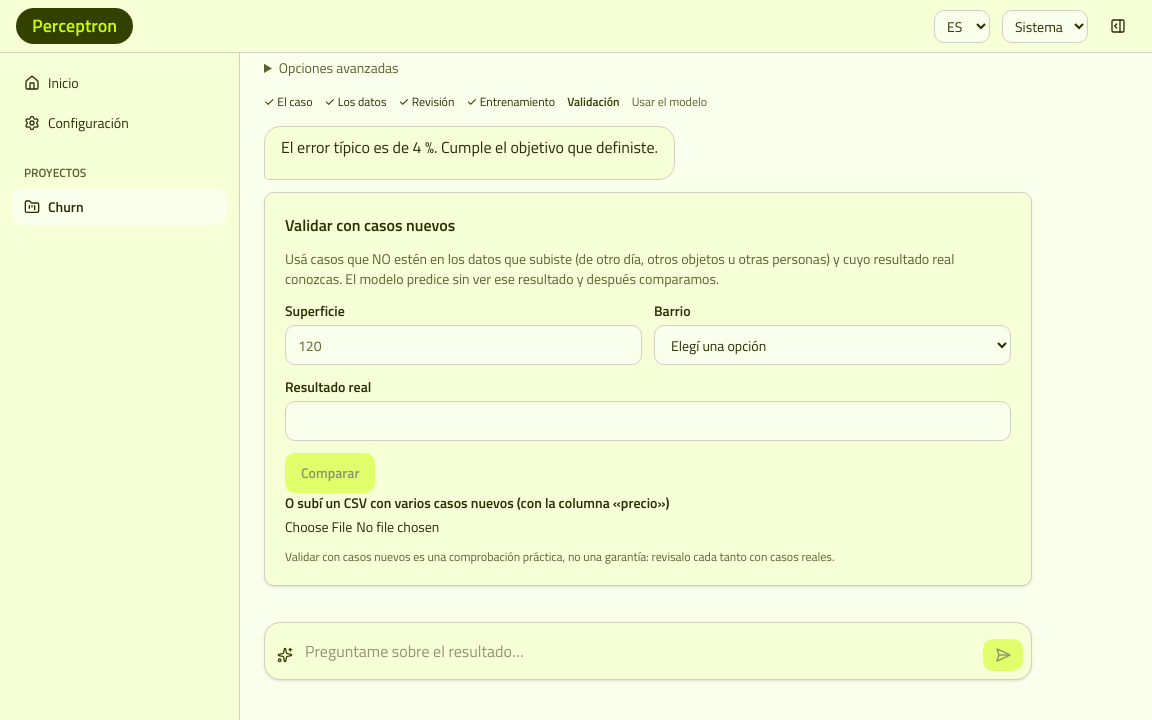
Test: validación: el resultado va en el hilo y se compara un caso nuevo
(page scrolled)
Expected: the text "El error típico es de 4 %. Cumple el objetivo que definiste." is shown, [281,135,658,159]
Type "130" into the number field labelled "Superficie" at [464, 345], box [285,325,642,365]
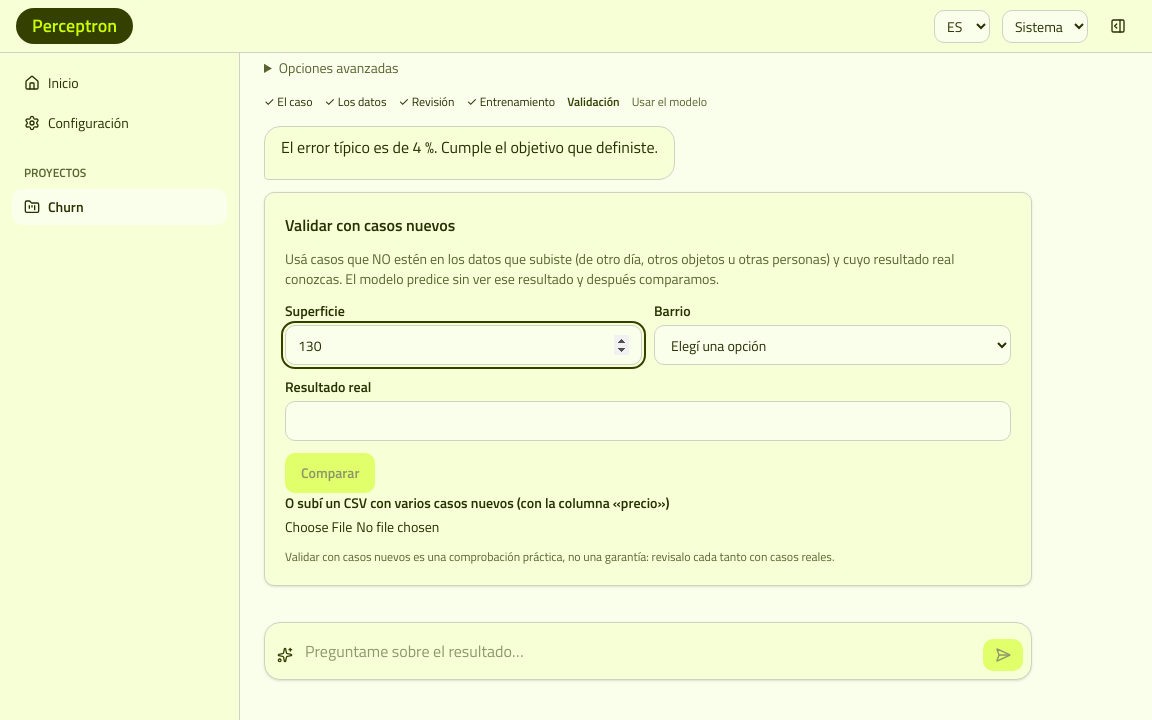
Select "Norte" in the dropdown labelled "Barrio" at [832, 345], box [654,325,1011,365]
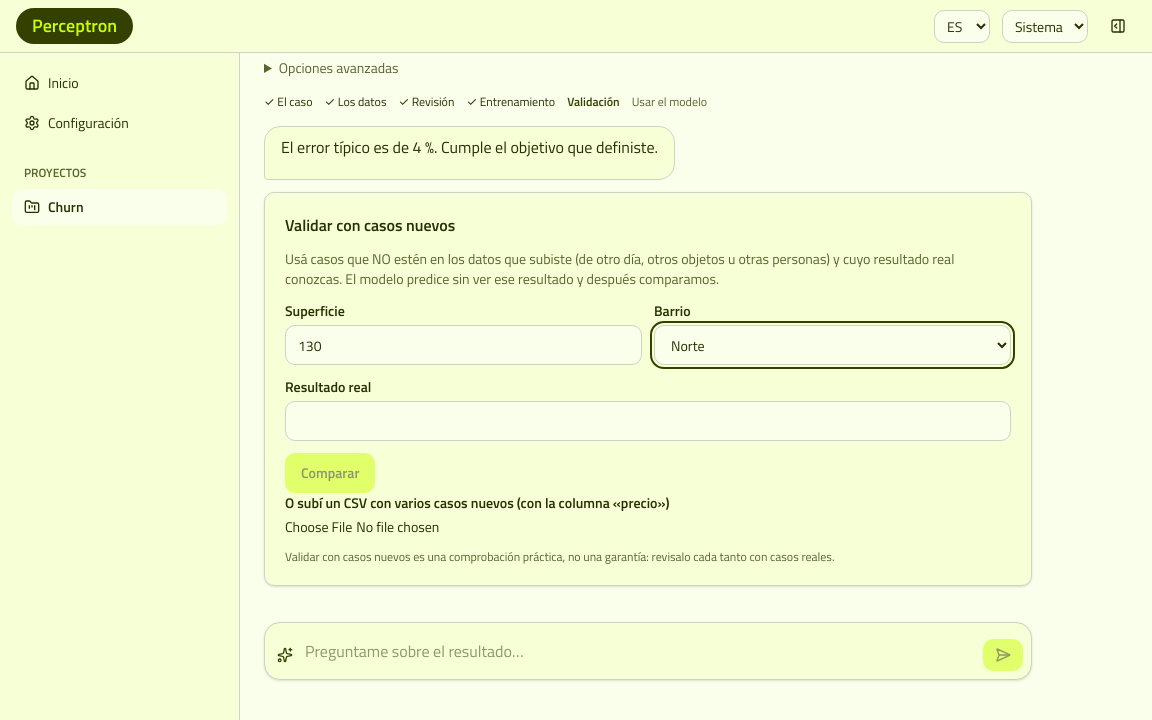
Type "98000" into the number field labelled "Resultado real" at [648, 421], box [285,401,1011,441]
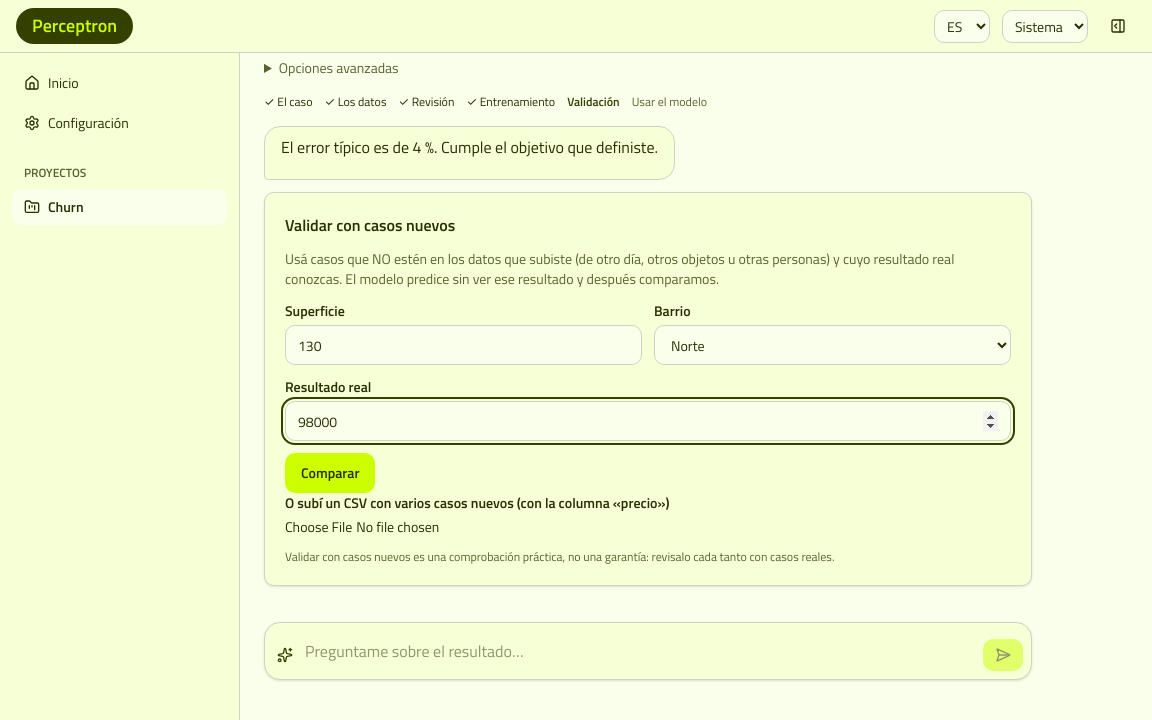
Click the button "Comparar" at [330, 473], box [285,453,376,493]
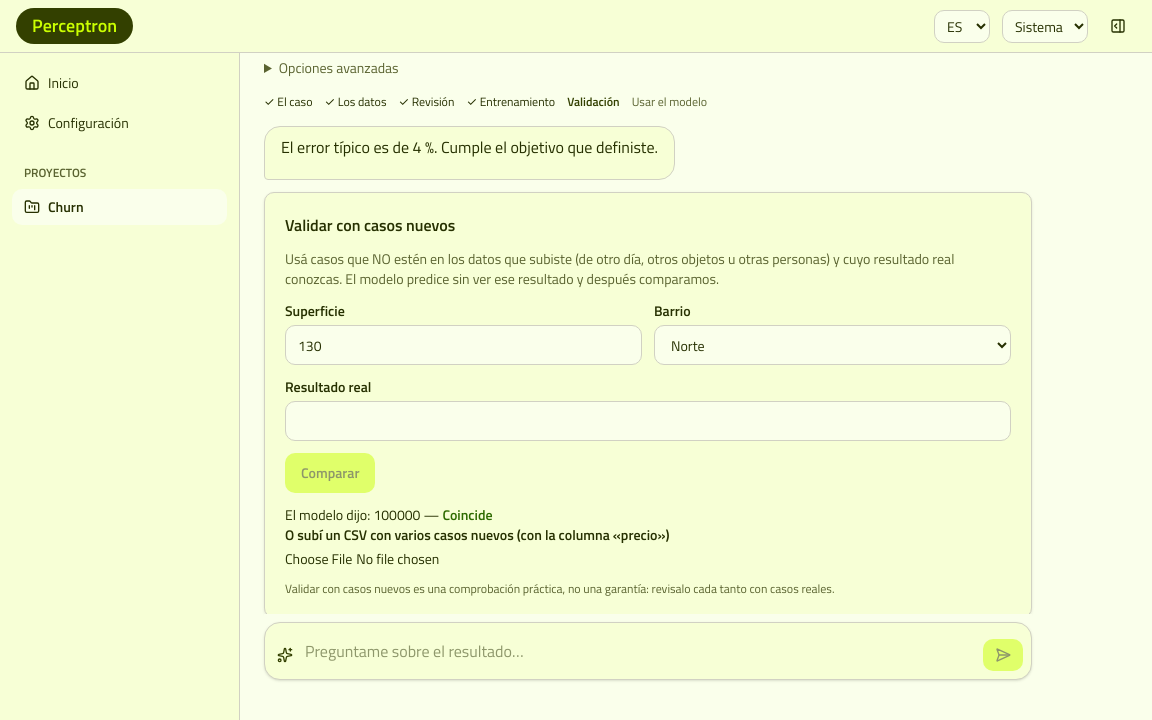
Expected: the text "Coincide" is shown, [442,504,493,525]
